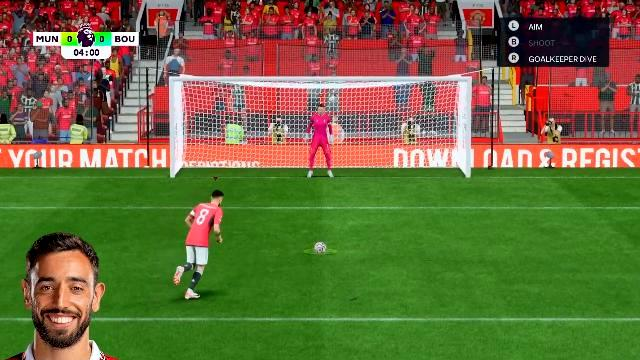bottom-left: (179, 134, 275, 178)
bottom-right: (366, 134, 462, 178)
center-down: (276, 134, 366, 180)
center-up: (273, 85, 365, 133)
circle: (304, 248, 336, 254)
football: (313, 242, 327, 252)
goalkeeper: (304, 103, 336, 181)
player: (170, 186, 226, 302)
top-left: (178, 85, 272, 133)
top-right: (366, 86, 462, 132)
